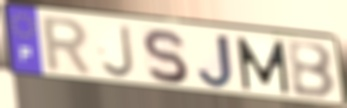B: (285, 41, 338, 101)
J: (195, 32, 236, 90), (99, 23, 137, 80)
M: (234, 35, 292, 96)
R: (41, 14, 96, 79)
S: (140, 26, 190, 85)
